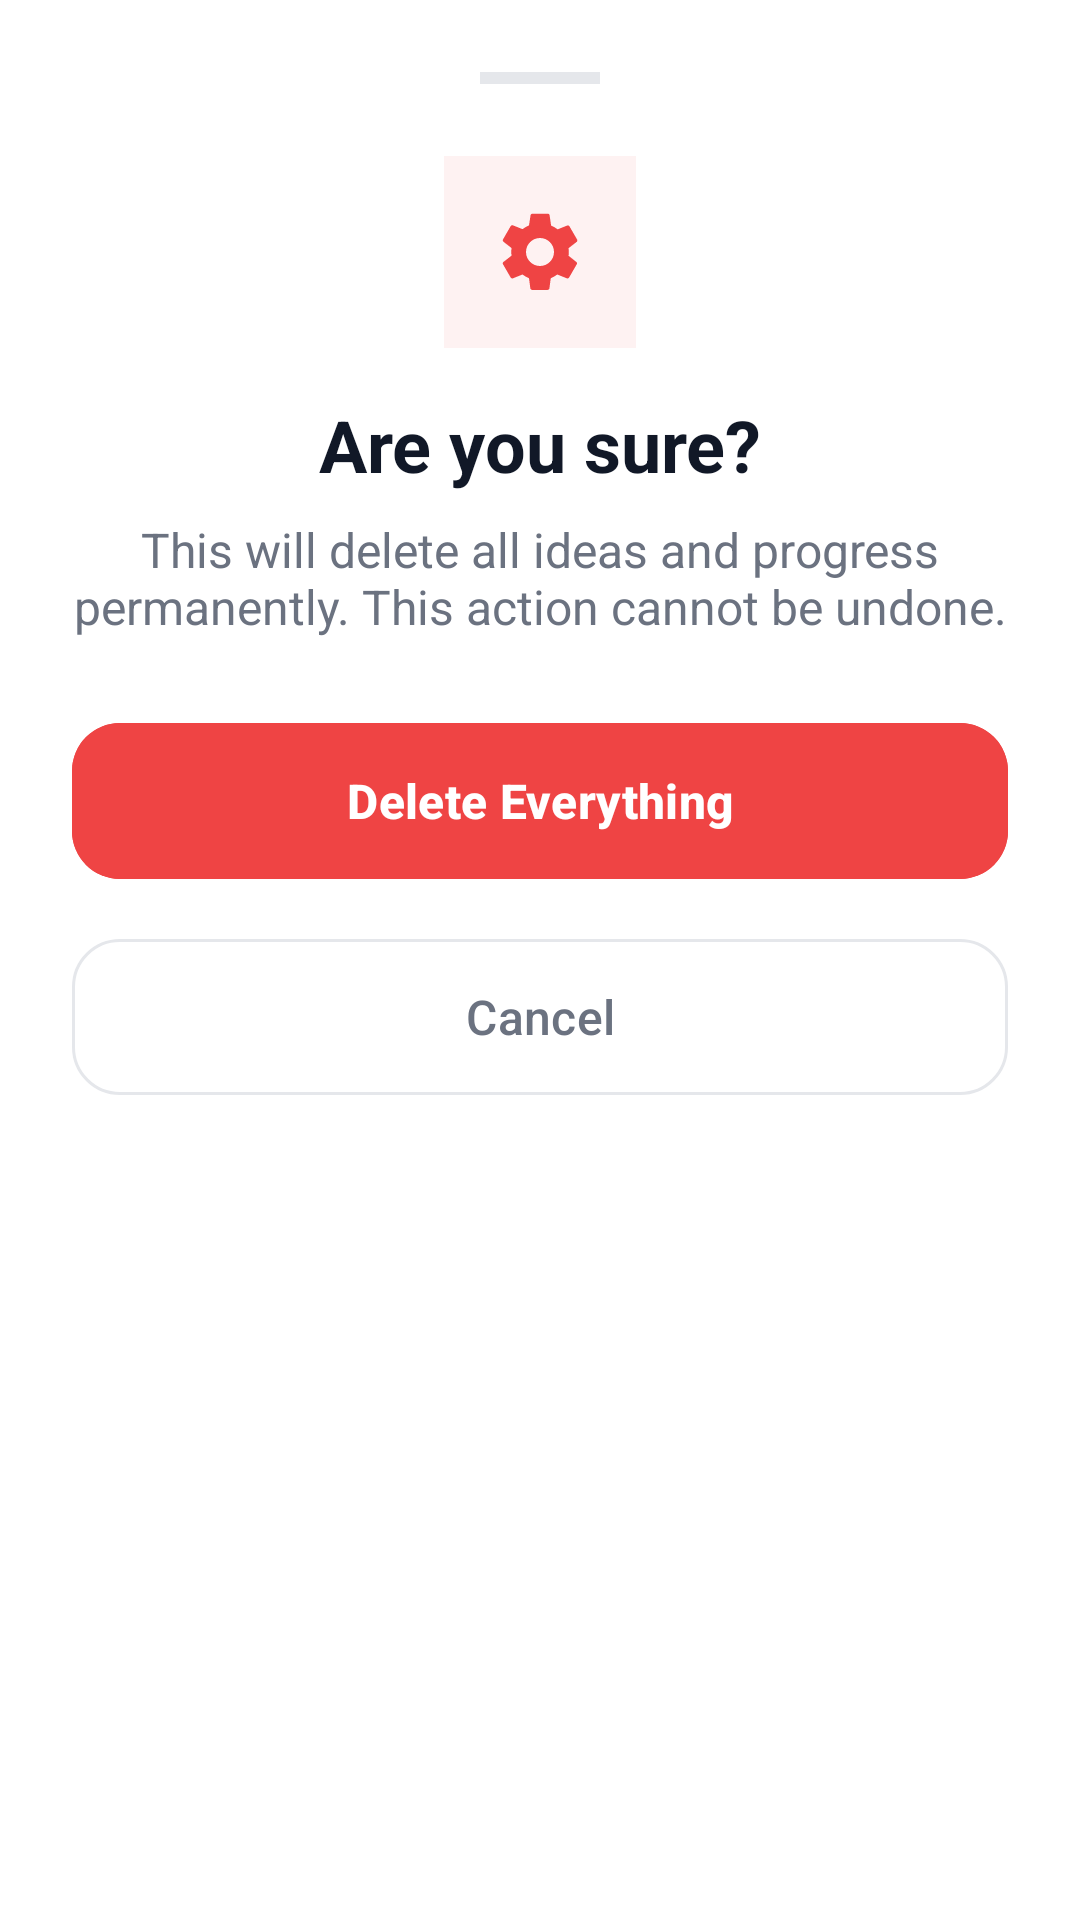

Locate icon controls on the screen. Image size 1080x1920, boxes as [x1=x1, y1=y1, x2=x2, y2=y2].
settings: [x1=502, y1=213, x2=578, y2=290]
